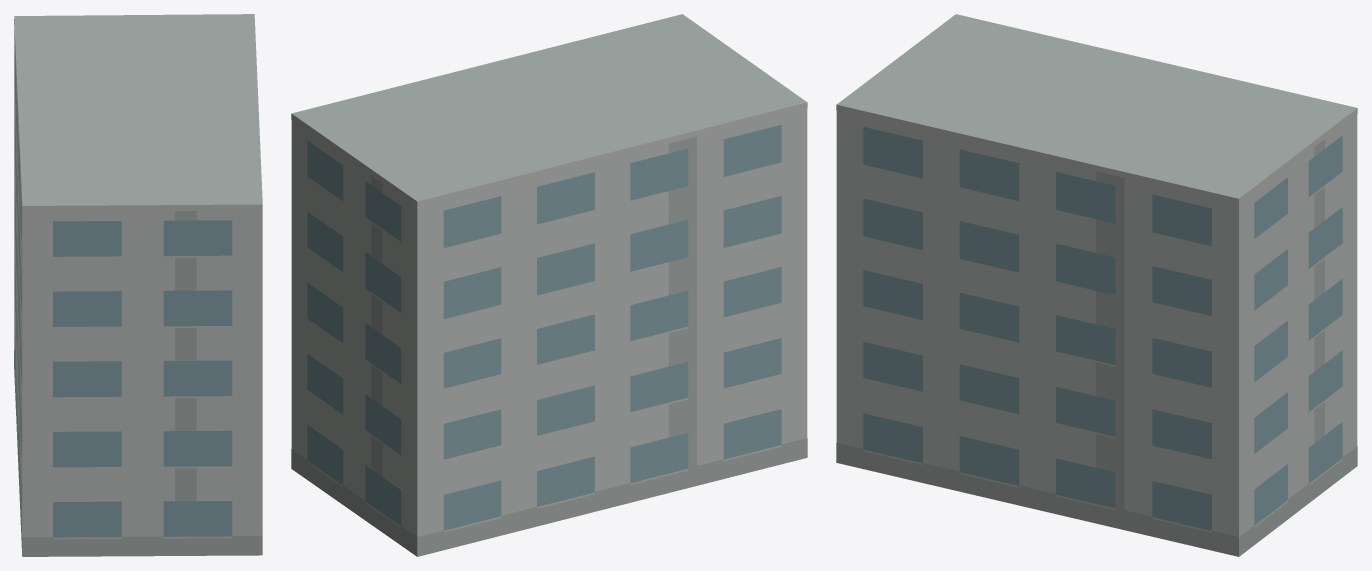
The model's file is survey-upis-32942675.glb.
The picture shows the model from 3 angles, left to right: view 1: azimuth 30°, elevation 25°; view 2: azimuth 150°, elevation 25°; view 3: azimuth 270°, elevation 25°; orthographic projection. The views are drawn at different scales.
Visible parts, largest first — view 1: survey-upis-32942675.tmp; view 2: survey-upis-32942675.tmp; view 3: survey-upis-32942675.tmp.
Boxes of the visible parts, x1,y1,x2,y2 form: survey-upis-32942675.tmp: [14, 14, 262, 556]; survey-upis-32942675.tmp: [291, 14, 807, 556]; survey-upis-32942675.tmp: [836, 14, 1357, 556].
Size of the model in its own units: 15.83 by 14.3 by 18.86.
